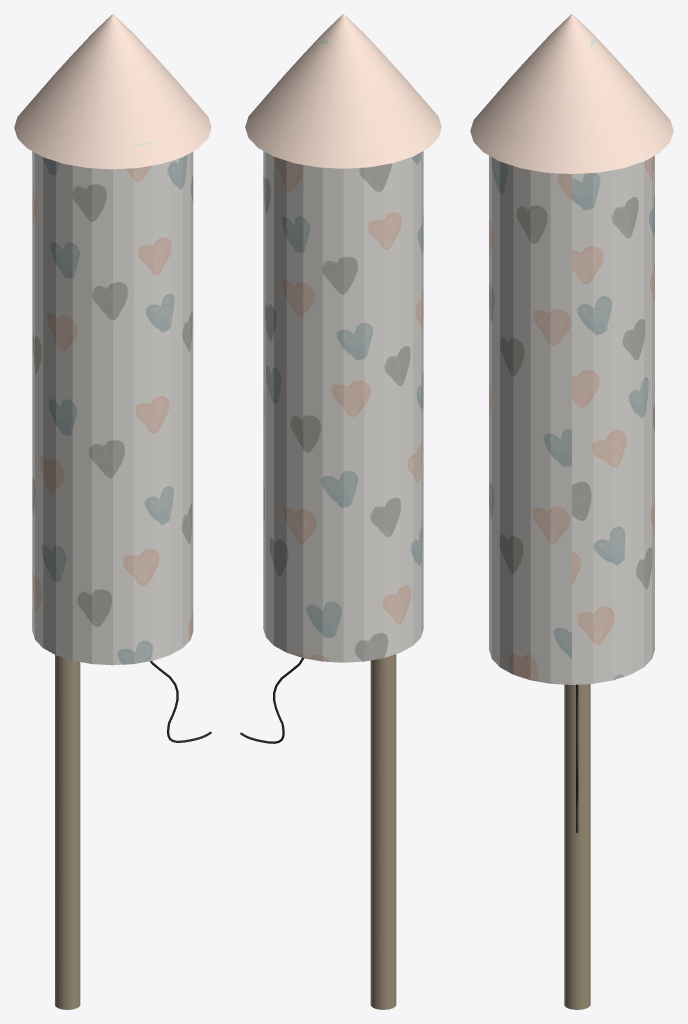
File: firecracker_2.fbx
3 renders of one model, left to right at view 1: azimuth 30°, elevation 25°; view 2: azimuth 150°, elevation 25°; view 3: azimuth 270°, elevation 25°, orthographic. The views are drawn at different scales.
Visible parts, largest first — view 1: Cone001; view 2: Cone001; view 3: Cone001.
Boxes of the visible parts, x1,y1,x2,y2 form: Cone001: (14,14,211,1009); Cone001: (240,14,441,1009); Cone001: (470,14,673,1009).
Size of the model in its own units: 56.52 by 284 by 51.81.
